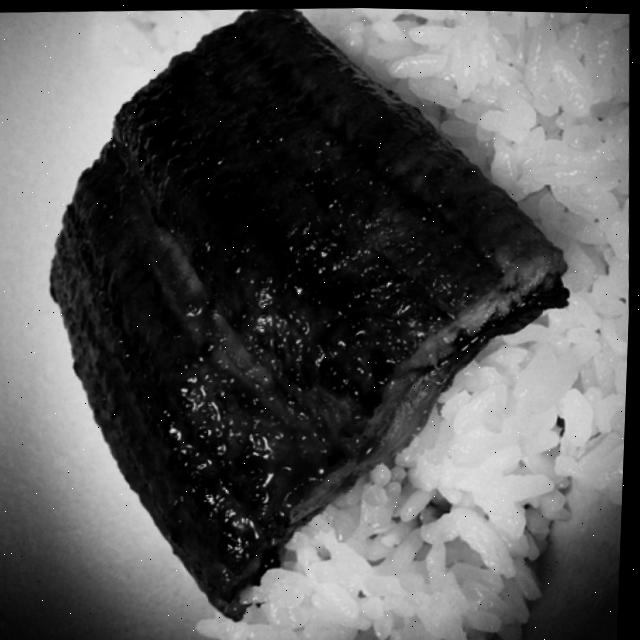熟制海鲜: (0, 0, 621, 640)
